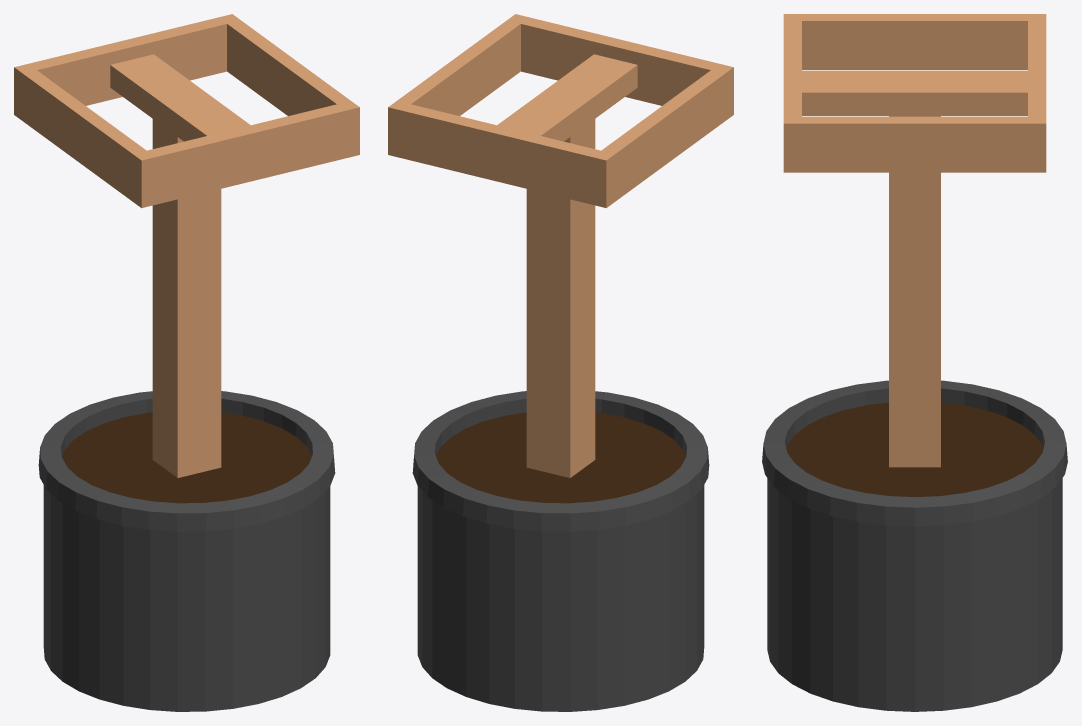
The model's file is Trellis.fbx.
The picture shows the model from 3 angles, left to right: view 1: azimuth 30°, elevation 25°; view 2: azimuth 150°, elevation 25°; view 3: azimuth 270°, elevation 25°; orthographic projection. The views are drawn at different scales.
Visible parts, largest first — view 1: Cylinder, Cube; view 2: Cylinder, Cube; view 3: Cylinder, Cube.
Boxes of the visible parts, box(x1,y1,x2,y2) form: Cylinder: box(38, 391, 335, 711); Cube: box(14, 14, 359, 477); Cylinder: box(412, 391, 709, 711); Cube: box(388, 14, 733, 477); Cylinder: box(762, 380, 1067, 711); Cube: box(783, 14, 1046, 467).
Bounding box in the file's own units: 499 × 1045 × 499.
